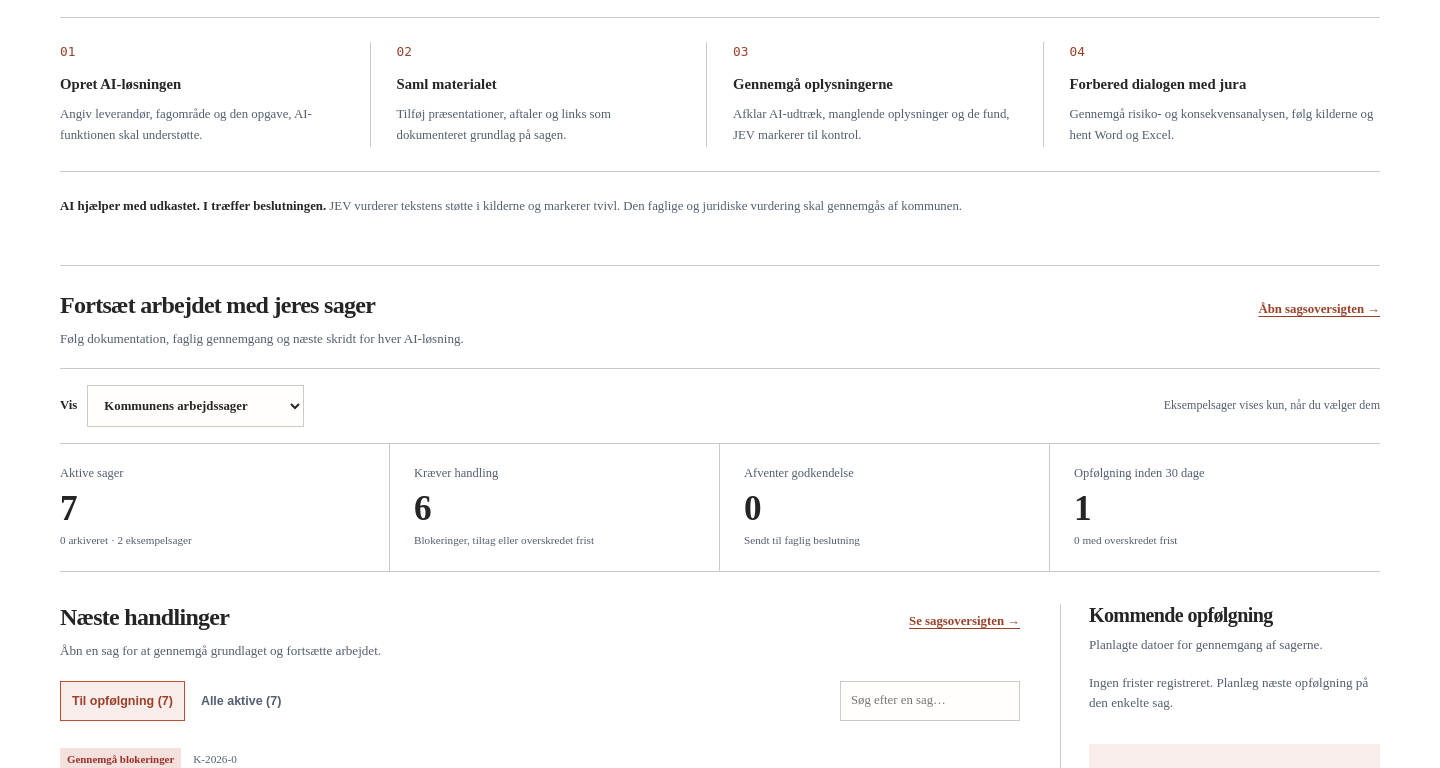
changing scope requests new data and updates URL without mutating cases
This screenshot has width=1440, height=768.
(page scrolled)
Expected: the element named "Sagsstatus" is shown, [60,443,1380,572]
Step 1. Select "Eksempelsager" in the dropdown labelled "Vis" → (196, 406), box [87,385,304,427]
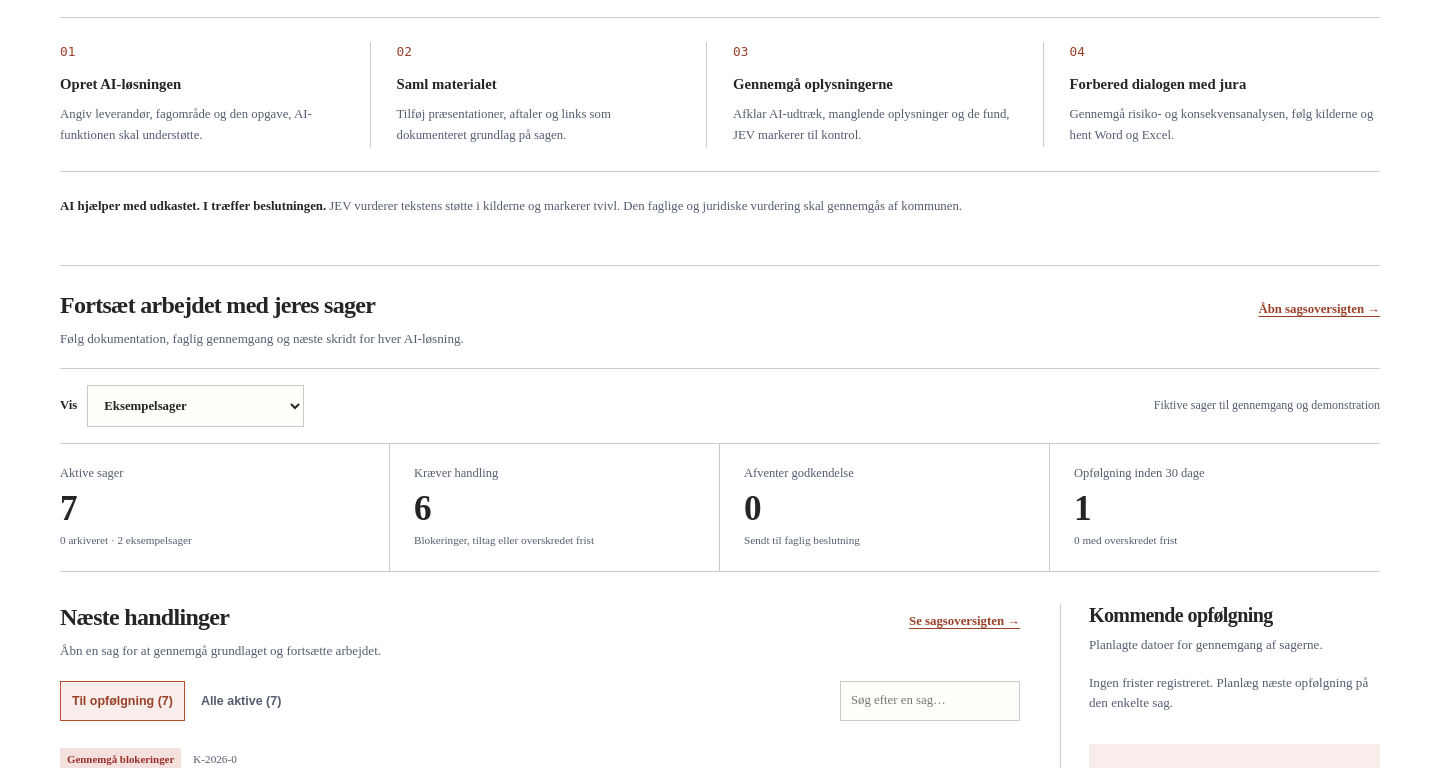
Expected: the text "Fiktive sager til gennemgang og demonstration" is shown, [1154,398,1380,413]
